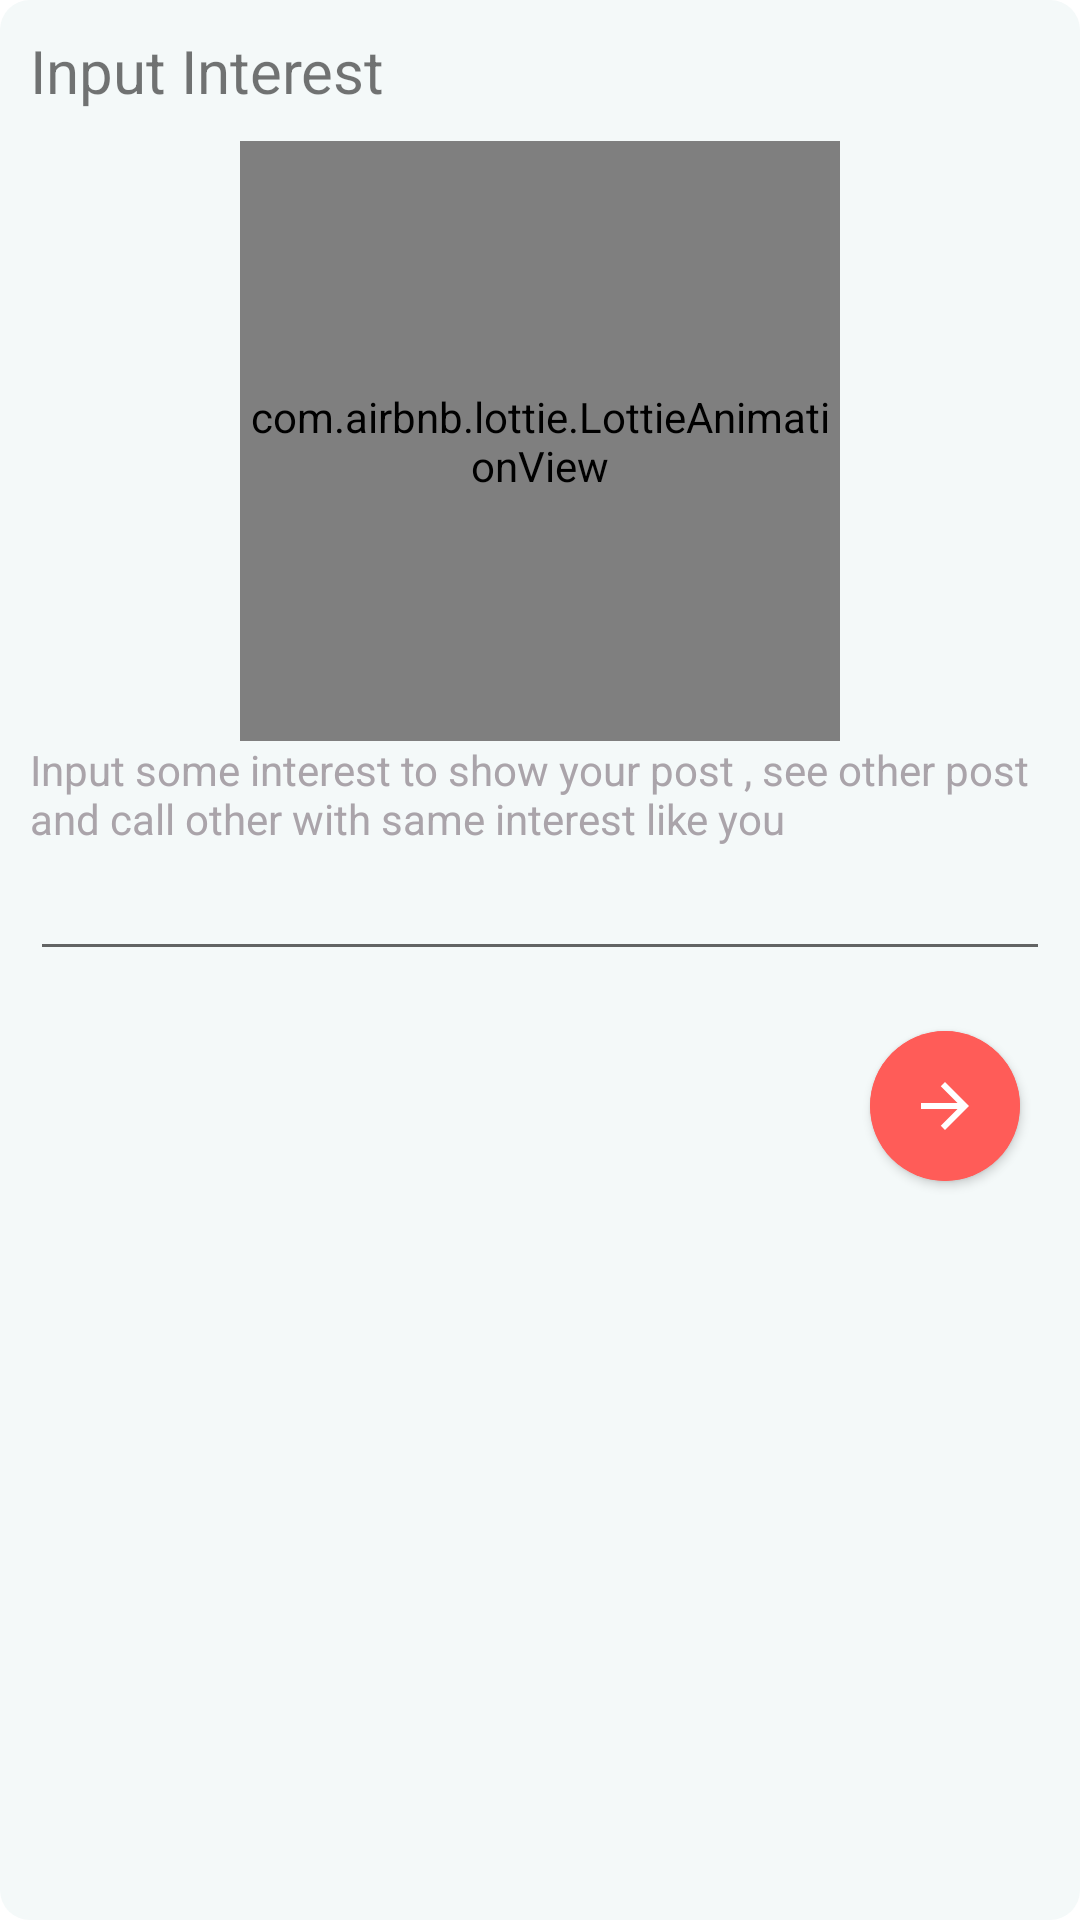

Icon click points for this 1080w x 1920h phone screenshot, format (x=x, y=y):
arrow: (x=945, y=1106)
